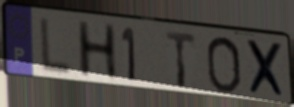1: (120, 26, 138, 85)
H: (74, 18, 120, 80)
L: (39, 15, 73, 79)
O: (204, 35, 243, 95)
T: (164, 29, 198, 91)
X: (244, 38, 289, 101)
